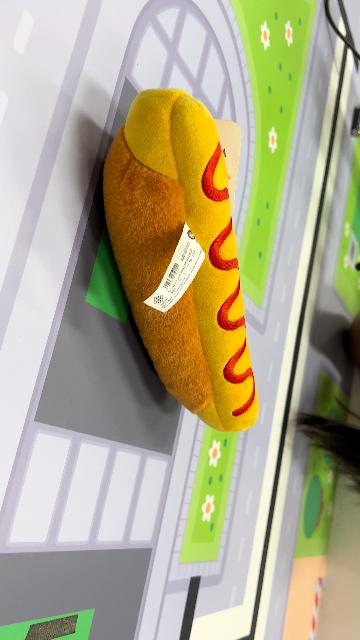hotdog: (101, 88, 261, 434)
